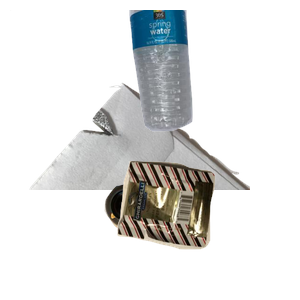glass: (102, 181, 246, 300)
paper: (10, 10, 250, 190)
plastic: (127, 10, 300, 134)
trash: (115, 158, 300, 300)
